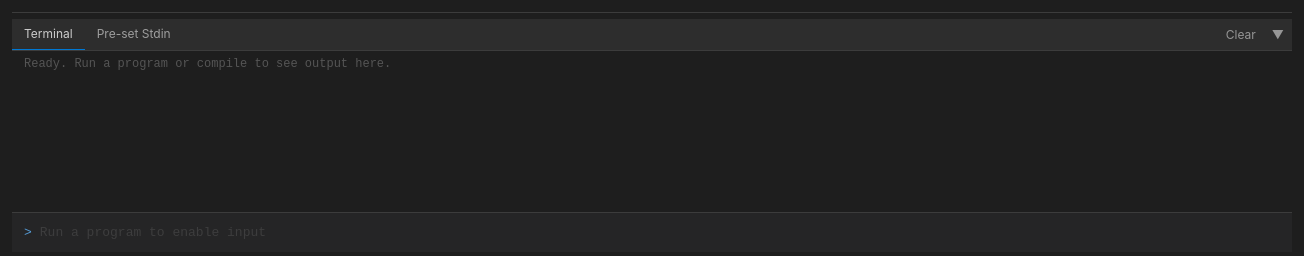
Test: Terminal › collapses and expands when the collapse button is clicked
The image size is (1304, 256).
Initially shows '▼' (collapse to smaller)
Click the button titled "Collapse". click: (1278, 34)
box: [1264,18,1292,50]
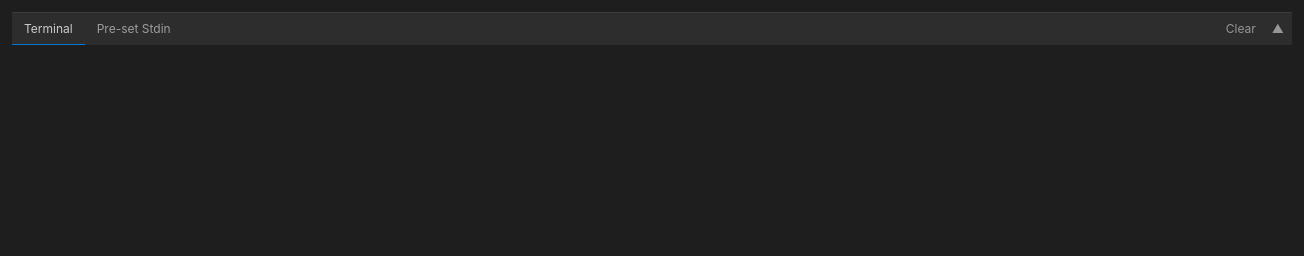
Check: the button titled "Expand" is shown
Click again to re-expand
Click the button titled "Expand". click: (1278, 29)
box: [1264,13,1292,45]
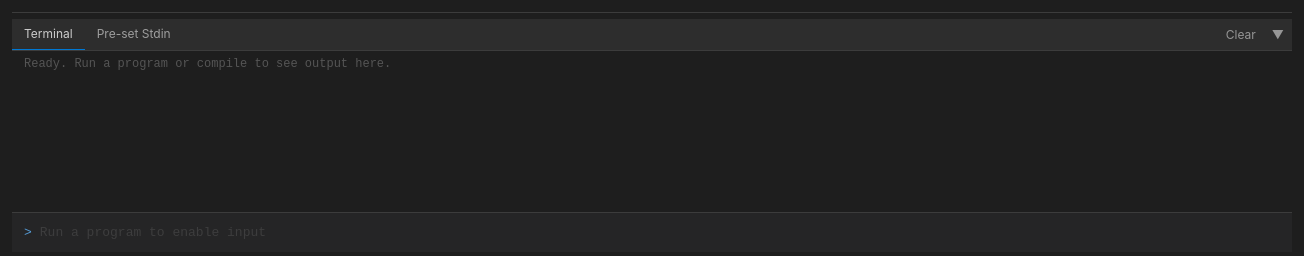
Check: the button titled "Collapse" is shown, box [1264,18,1292,50]
